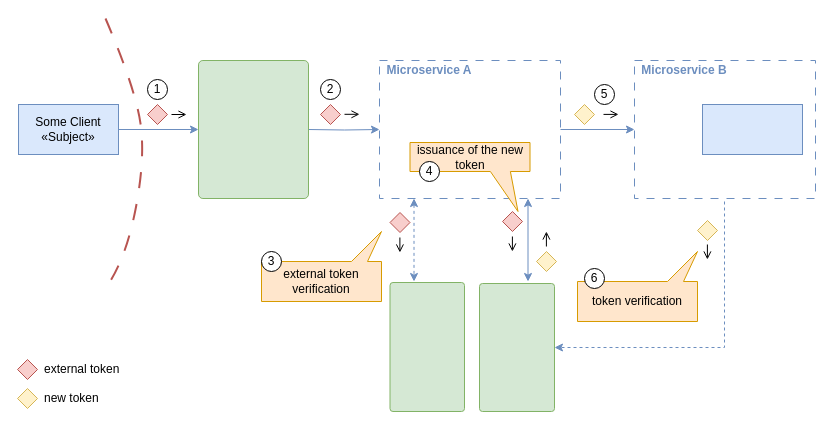
Image size: 833x429. Some labels were removed from this diagram. The shapes that lost their labels are listed below. From the top down, each one's centre as x and y in pixels, then its label:
(253,129): Edge-Proxy
(752,129): Some Entity «Object»
(426,347): Verifier
(516,347): STS
